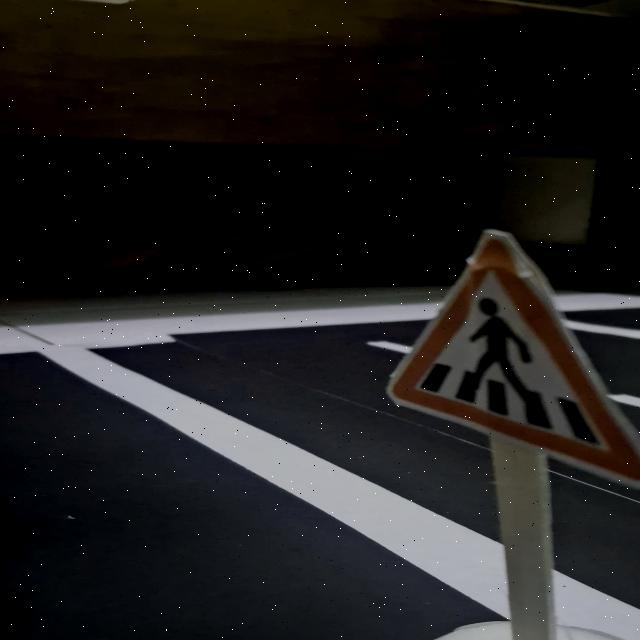Rambu Penyebrangan: (384, 231, 640, 484)
